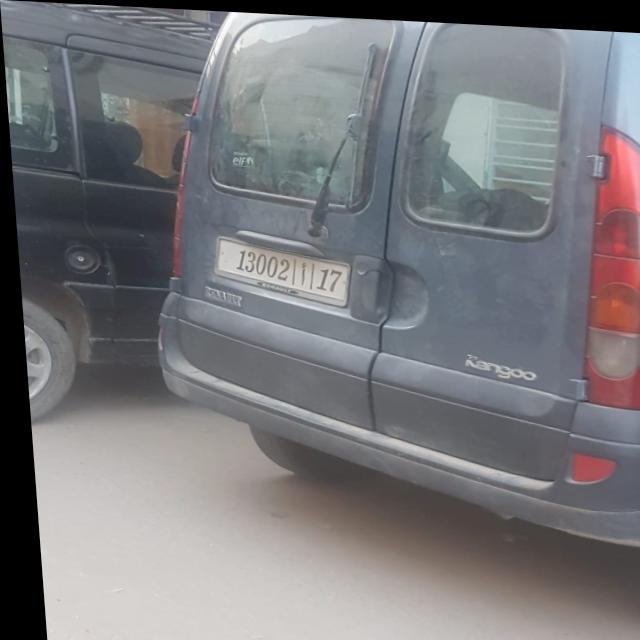License-Plate: (212, 235, 345, 302)
